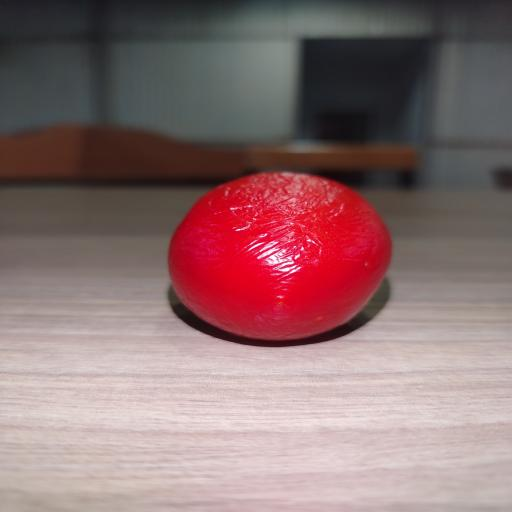spoiled: (169, 173, 391, 340)
